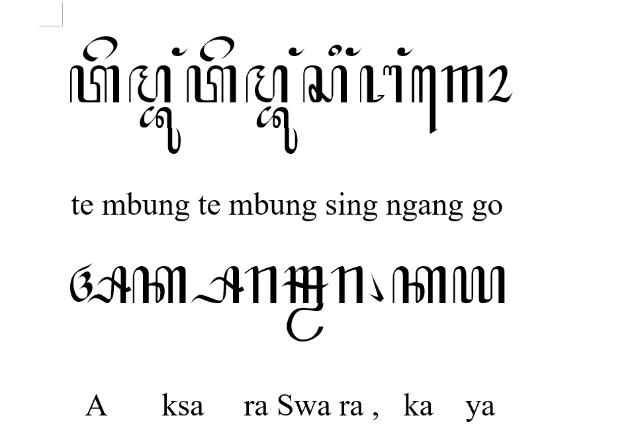A: (70, 262, 130, 306)
Sw: (281, 266, 329, 344)
_bu: (256, 105, 298, 155), (139, 106, 181, 154)
_s: (192, 266, 244, 306)
e: (199, 36, 235, 63), (82, 36, 118, 62)
e1: (410, 64, 438, 134)
g: (441, 64, 484, 106)
i: (328, 44, 342, 58)
k: (132, 265, 188, 305), (392, 265, 446, 305)
kom: (367, 270, 385, 304)
m: (128, 64, 172, 104), (245, 64, 289, 104)
ng: (170, 46, 188, 56), (288, 47, 306, 57), (344, 46, 362, 56), (397, 46, 413, 57)
nga: (358, 64, 404, 104)
o: (485, 65, 513, 103)
r: (244, 265, 278, 304), (332, 266, 364, 304)
s: (302, 66, 350, 104)
t: (185, 64, 237, 104), (70, 66, 120, 104)
y: (452, 266, 506, 306)
